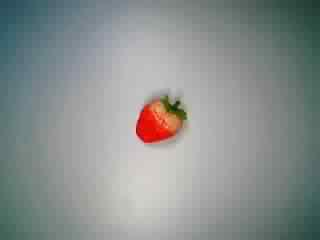strawberry: (121, 82, 194, 149)
